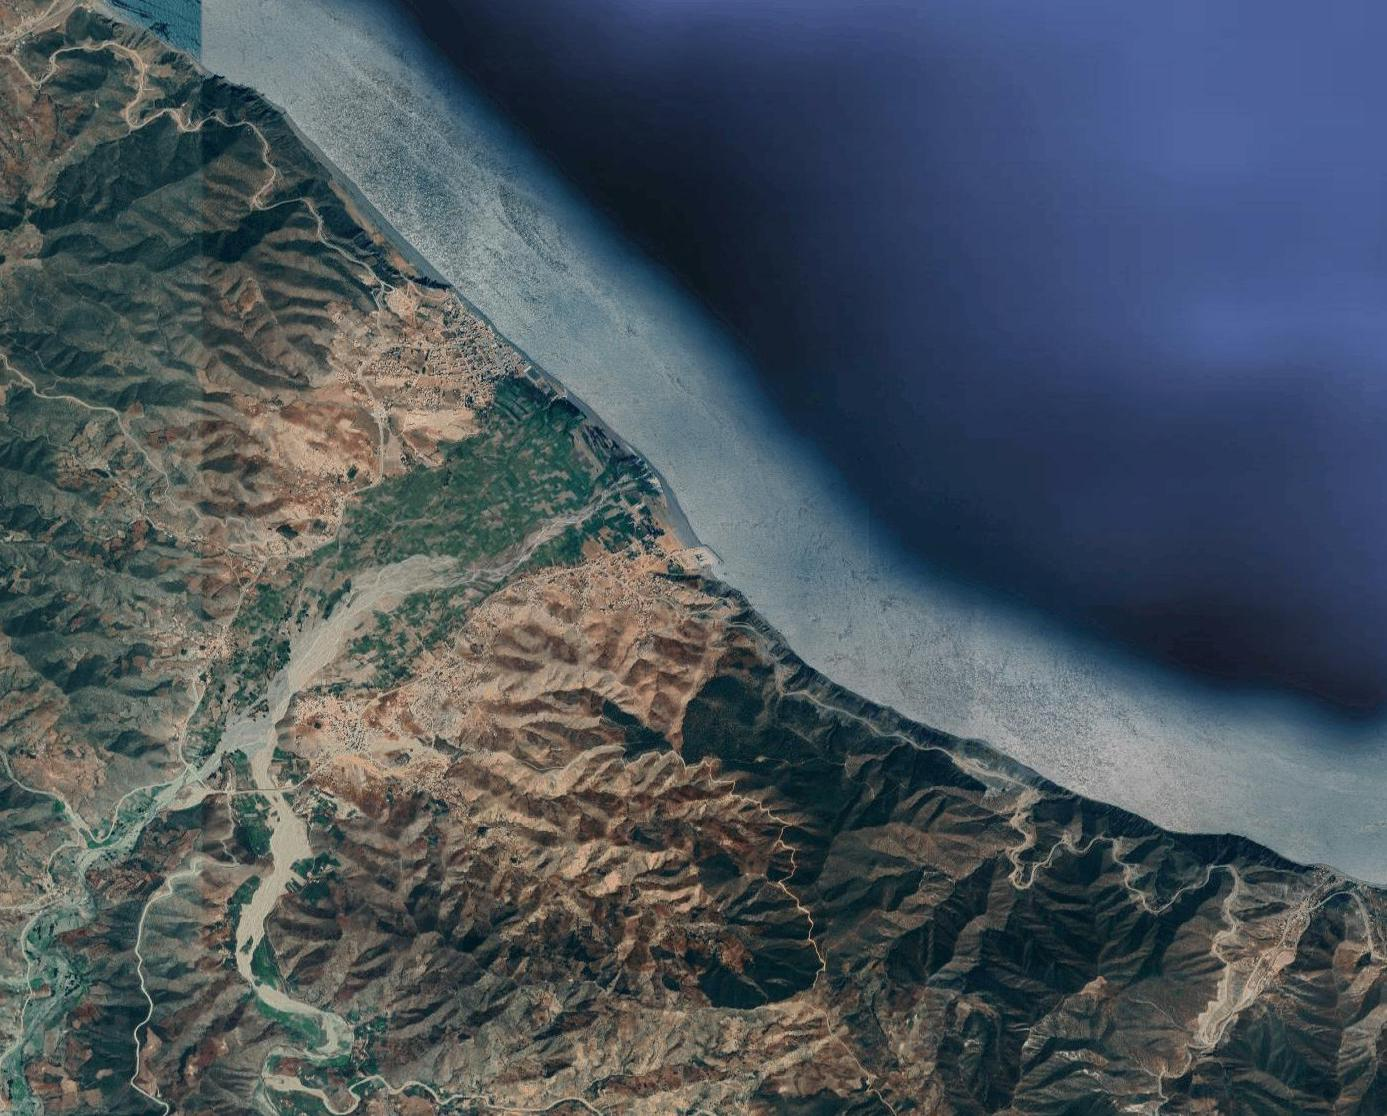harbor: (679, 540, 723, 575)
